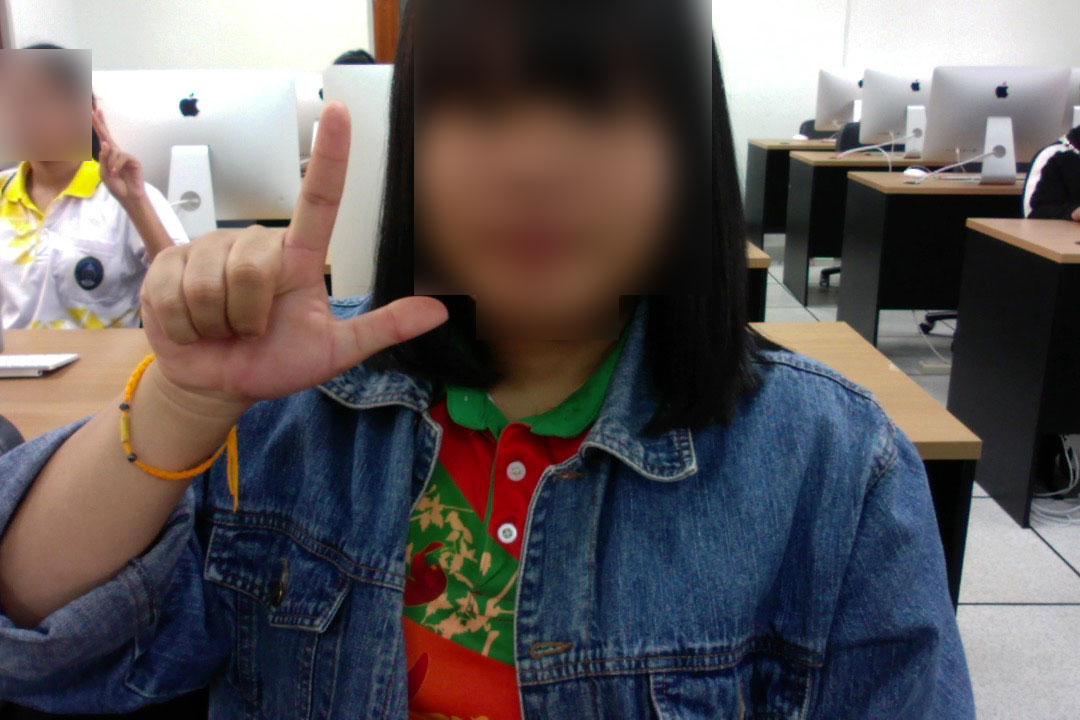lor: (108, 94, 456, 422)
